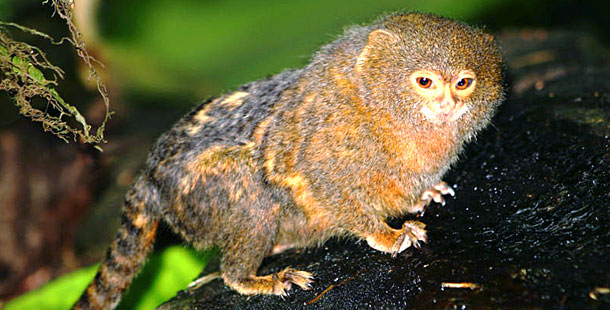PygmyMarmoset: (115, 14, 522, 286)
